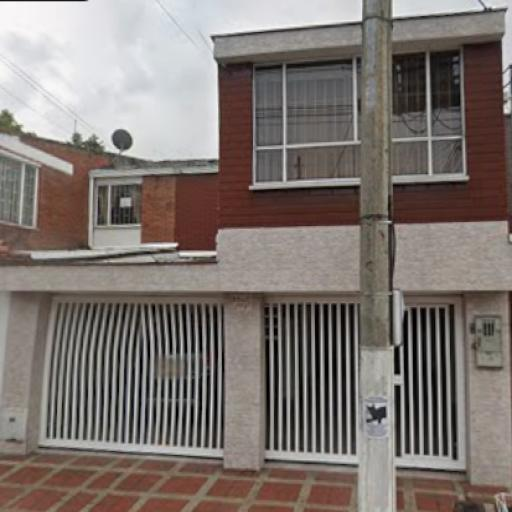poste: (349, 2, 401, 511)
